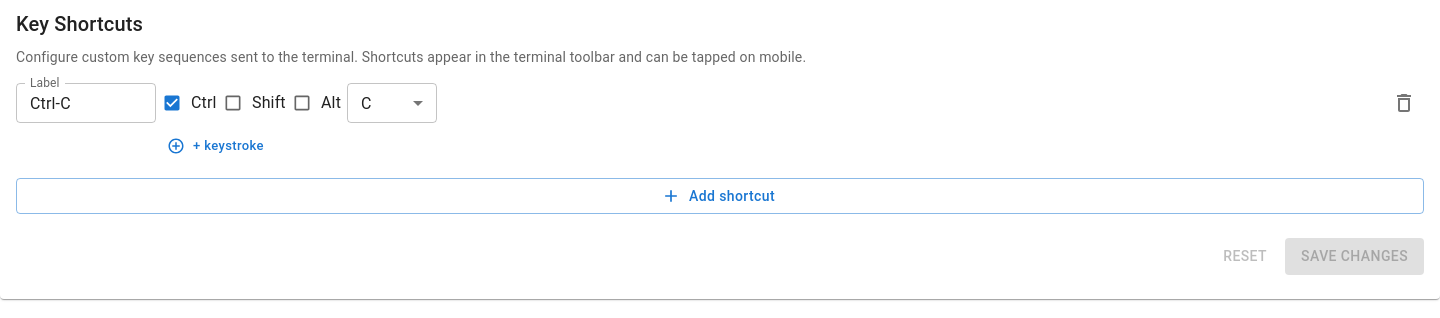
KeyShortcutsSettings › Save › Save button is enabled only when dirty
The image size is (1440, 318).
Expected: the button "Save Changes" is disabled, [1285,238,1424,275]
Type "!" into the field showing "Ctrl-C" at (86, 103), box [16,83,156,123]
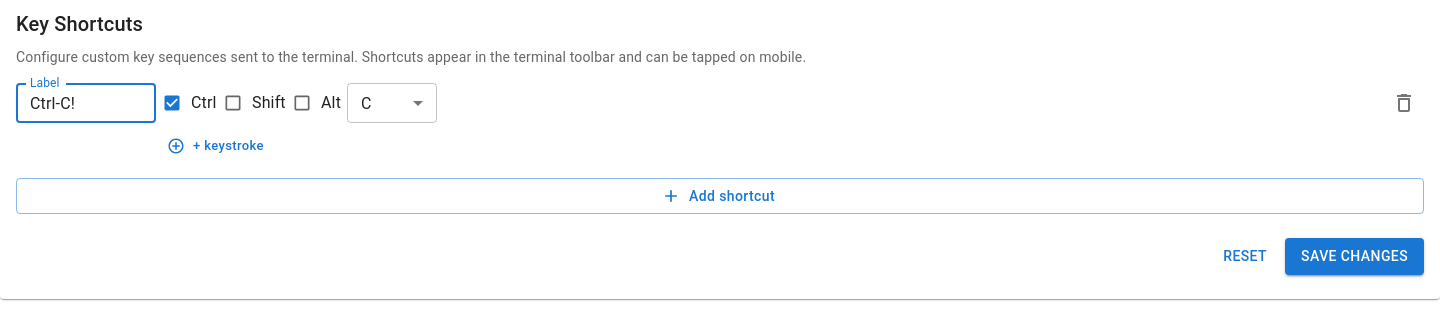
Expected: the button "Save Changes" is enabled, [1285,238,1424,275]
